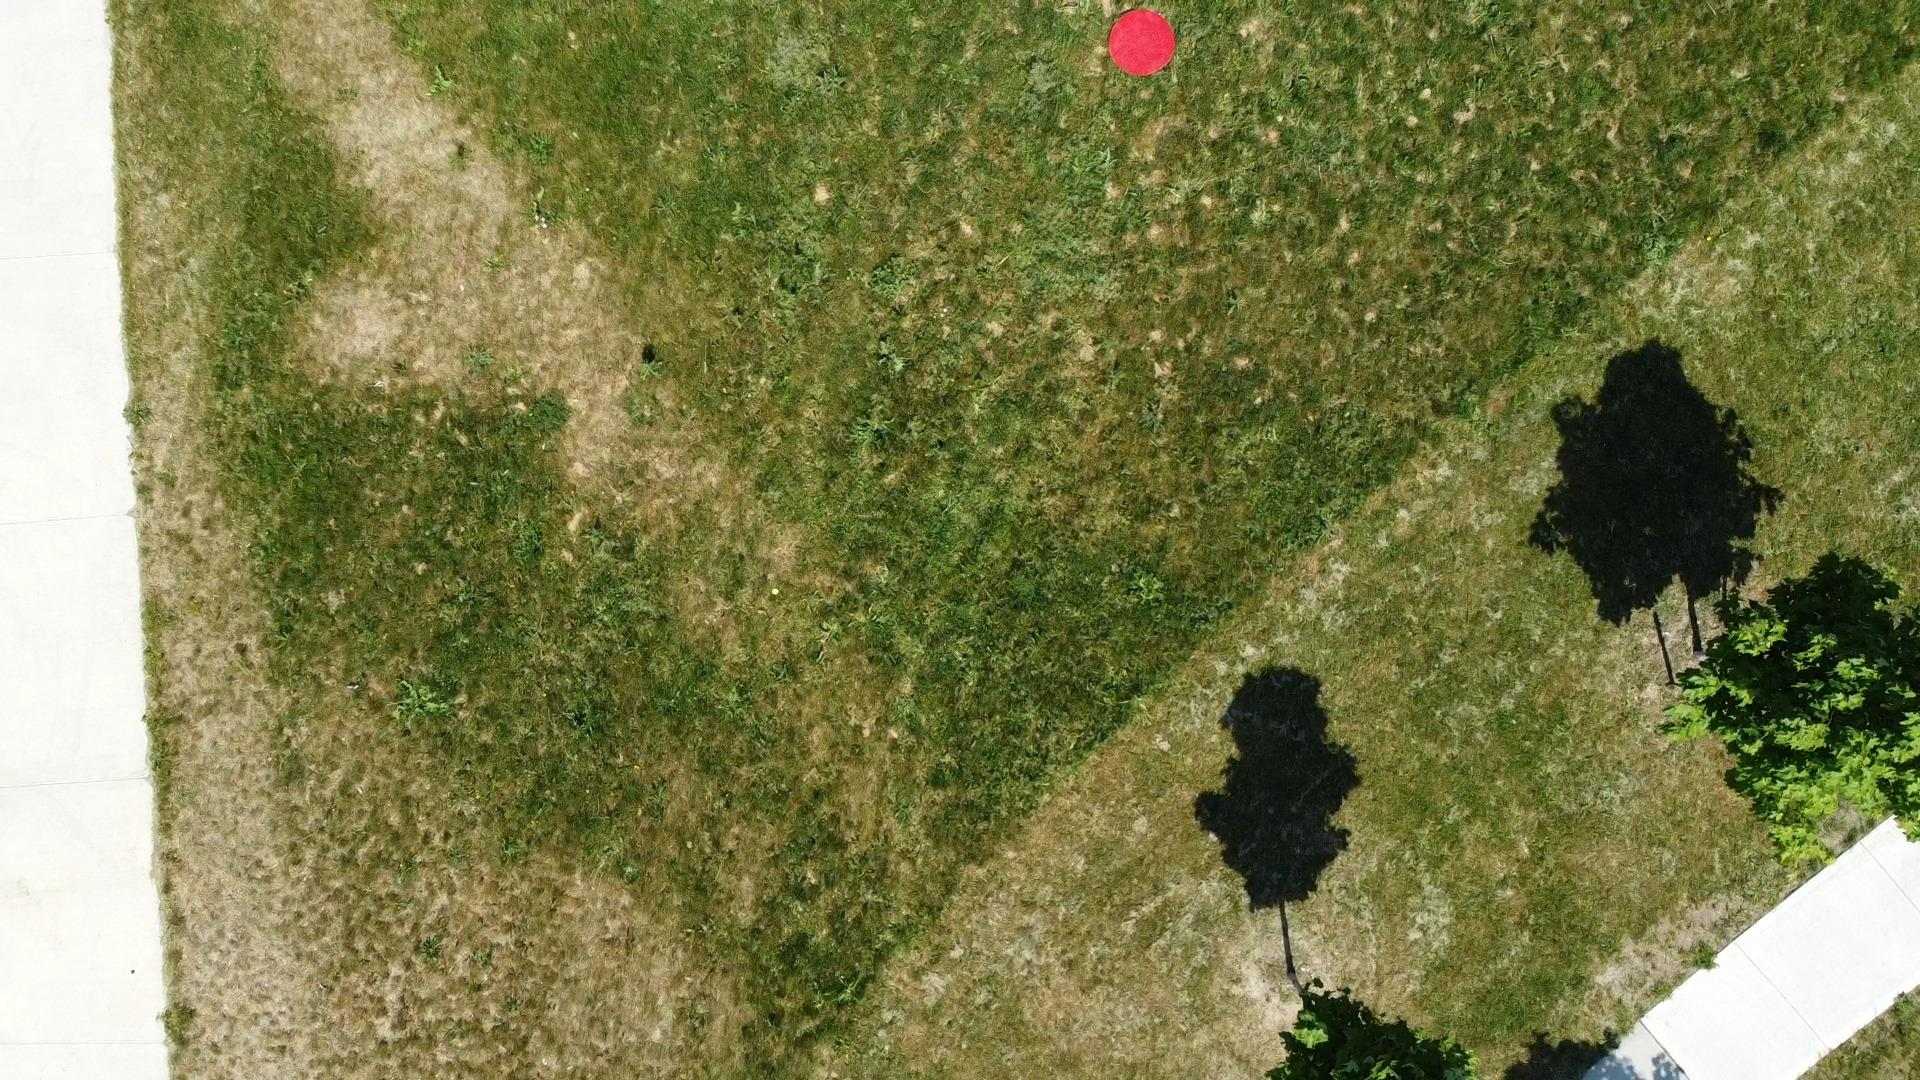Red: (1105, 7, 1178, 78)
